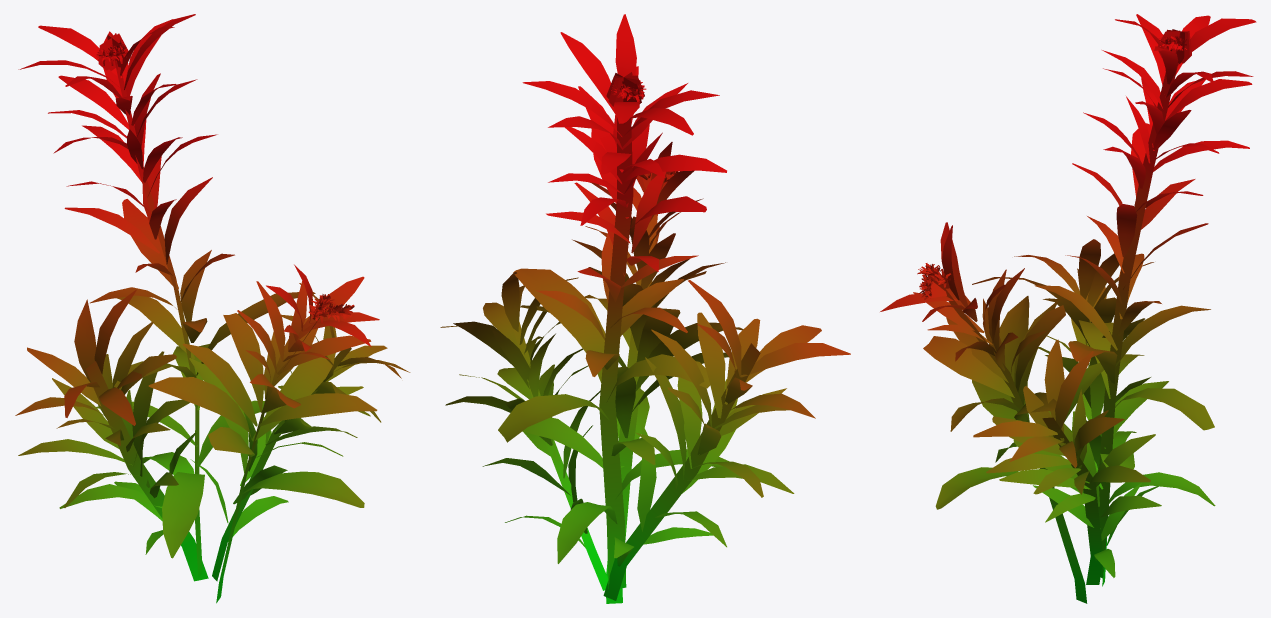
The model's file is Goldenrods_LOD4_Var5.fbx.
3 renders of one model, left to right at view 1: azimuth 30°, elevation 25°; view 2: azimuth 150°, elevation 25°; view 3: azimuth 270°, elevation 25°, orthographic. The views are drawn at different scales.
Parts seen in each view (by area): view 1: _fu3g_Var5_LOD4; view 2: _fu3g_Var5_LOD4; view 3: _fu3g_Var5_LOD4.
Part boxes in pixels (box(x1,y1,x2,y2)): _fu3g_Var5_LOD4: box(15, 14, 410, 603); _fu3g_Var5_LOD4: box(440, 14, 850, 603); _fu3g_Var5_LOD4: box(880, 14, 1256, 603).
Size of the model in its own units: 65.06 by 97.58 by 58.57.
